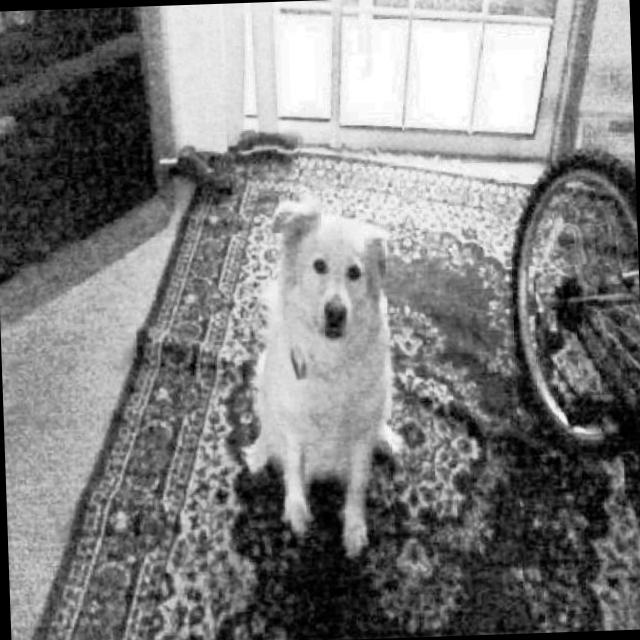Dog: (237, 188, 414, 565)
